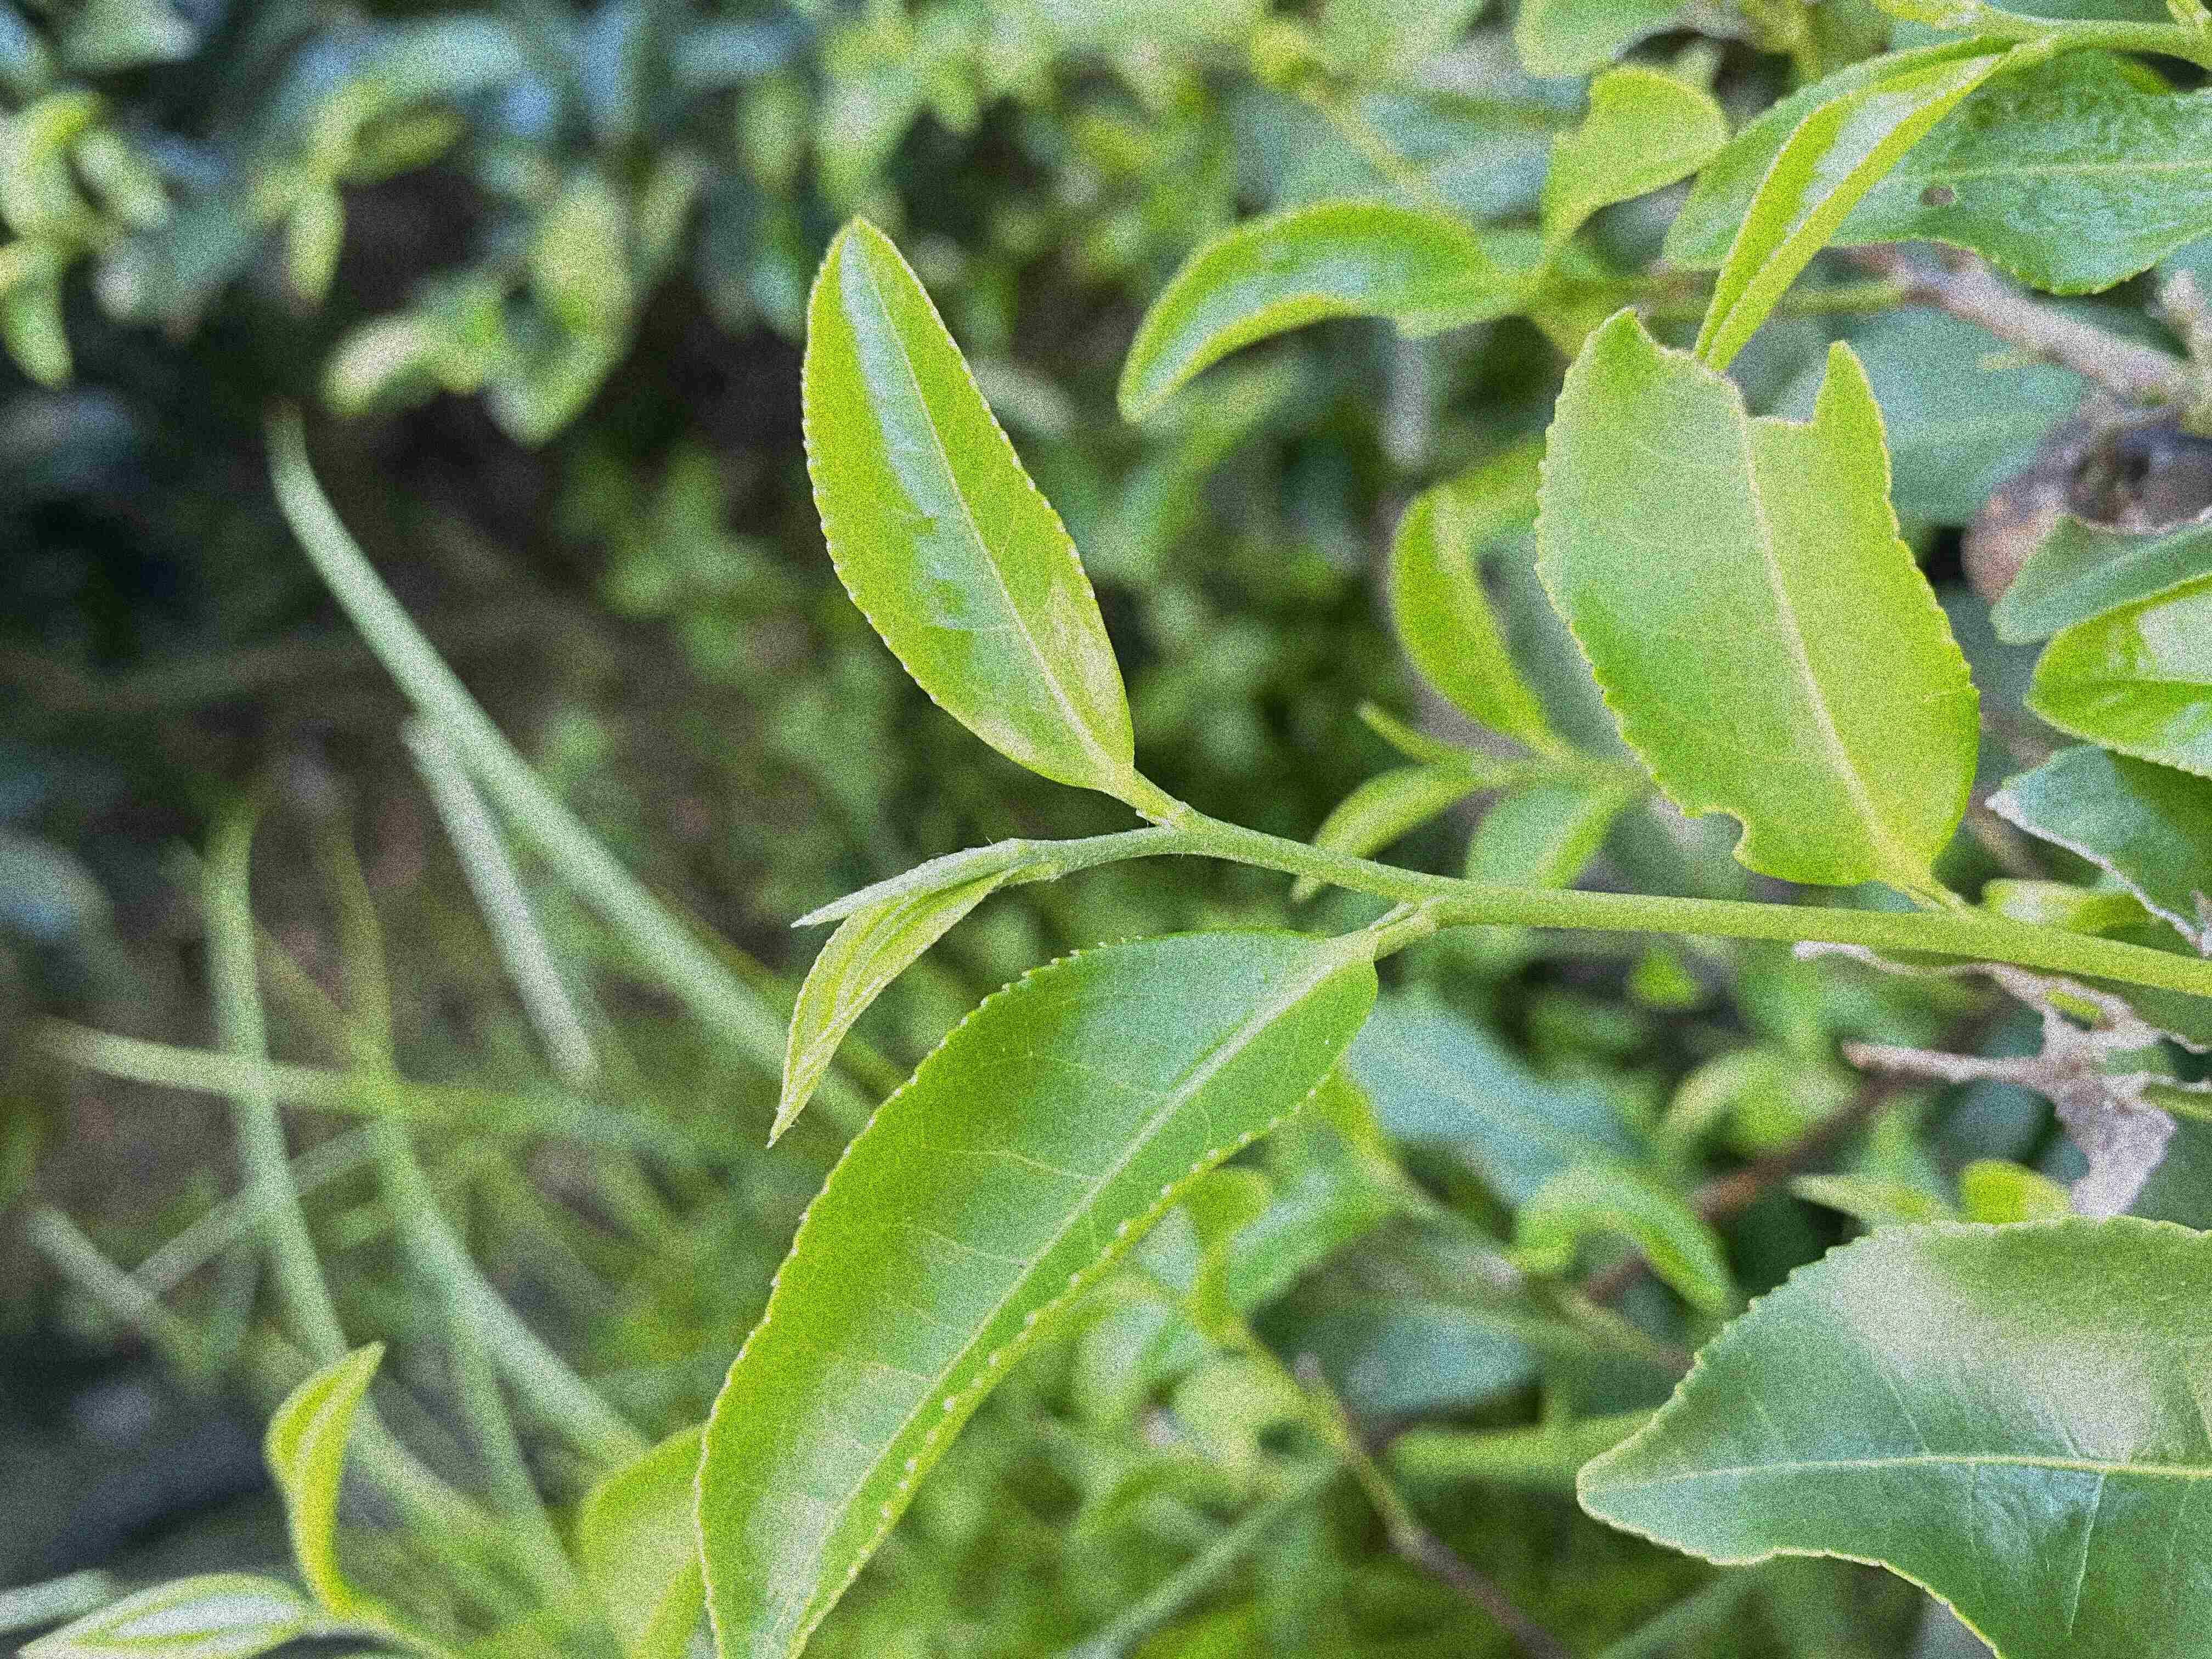chihuo_high: (1527, 300, 1987, 892)
chihuo_low: (1656, 35, 2210, 300)
healthy: (693, 924, 1379, 1657), (1575, 1211, 2210, 1657), (798, 213, 1137, 788)
